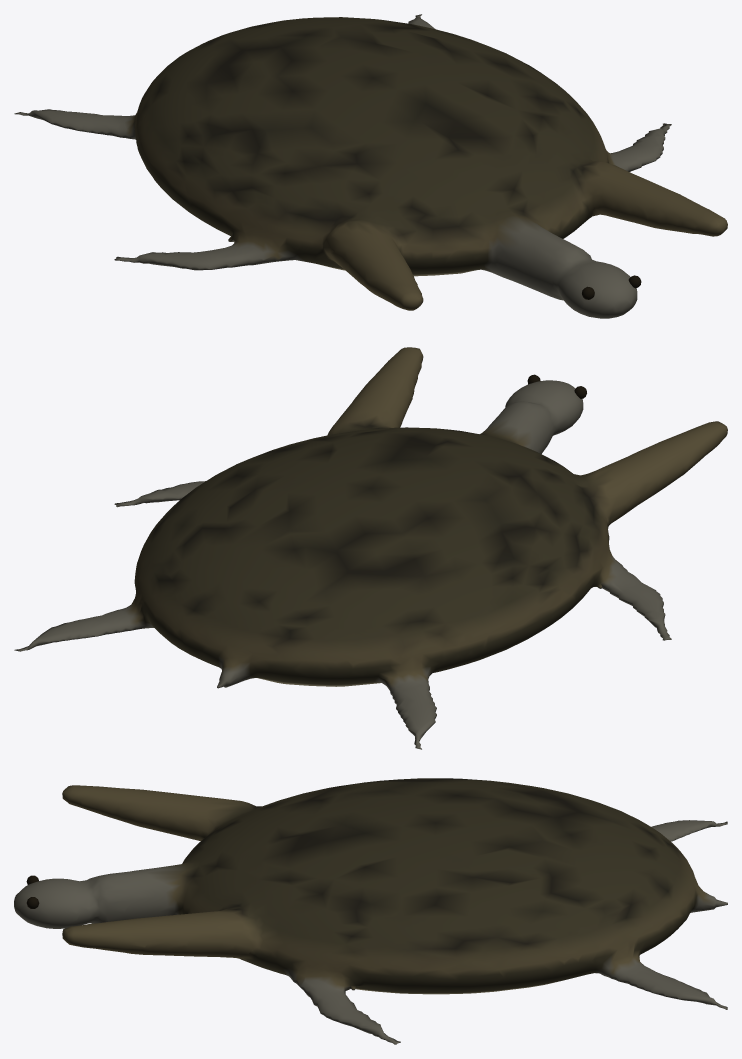
File: StupendemysGeographicus.fbx
The picture shows the model from 3 angles, top to bottom: view 1: azimuth 30°, elevation 25°; view 2: azimuth 150°, elevation 25°; view 3: azimuth 270°, elevation 25°; orthographic projection. The views are drawn at different scales.
Visible parts, largest first — view 1: StupendemysGeographicus; view 2: StupendemysGeographicus; view 3: StupendemysGeographicus.
Part boxes in pixels (x1,y1,x2,y2): StupendemysGeographicus: (14,14,727,318); StupendemysGeographicus: (14,347,727,749); StupendemysGeographicus: (14,778,727,1044).
Size of the model in its own units: 1.44 by 0.3187 by 1.68.
